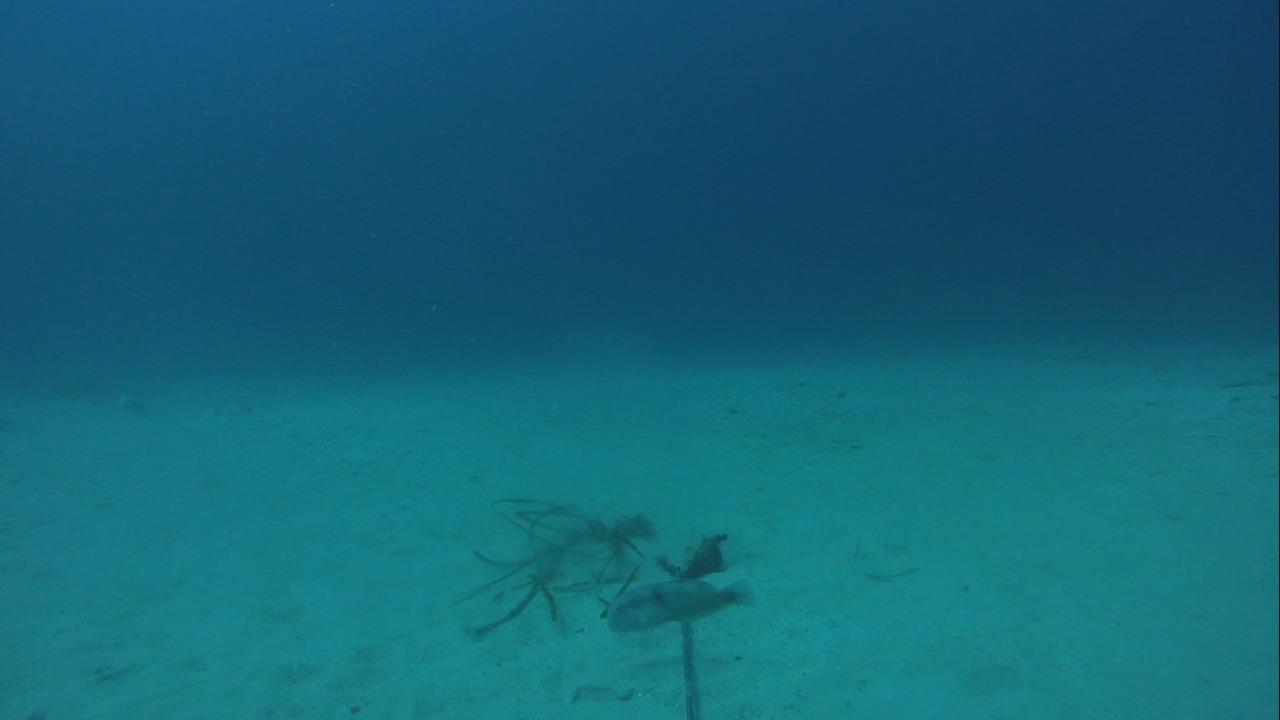raor: (603, 573, 752, 632)
